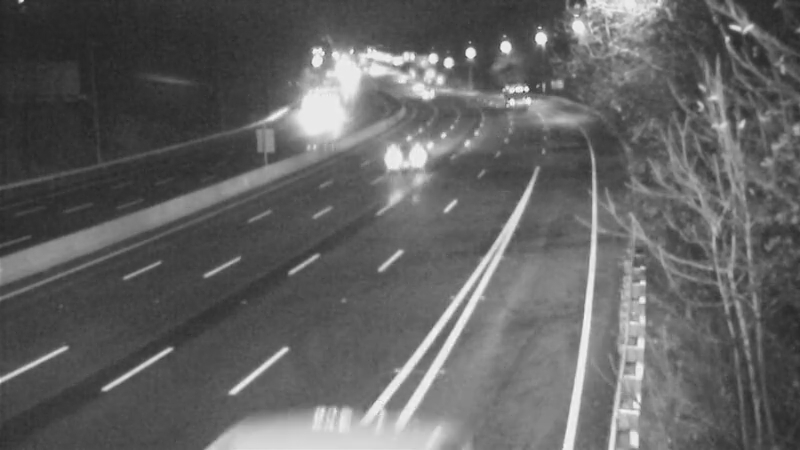vehicle: (376, 112, 456, 192), (400, 70, 450, 120), (488, 69, 538, 119), (285, 89, 335, 139)
